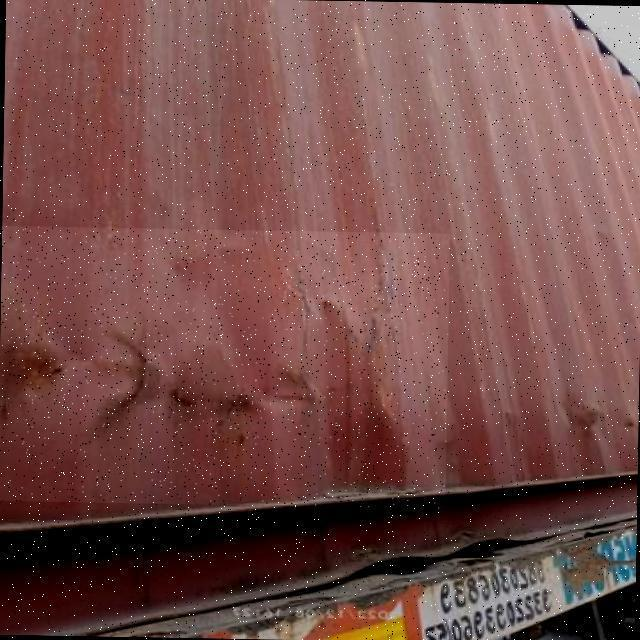dent: (1, 226, 450, 509)
